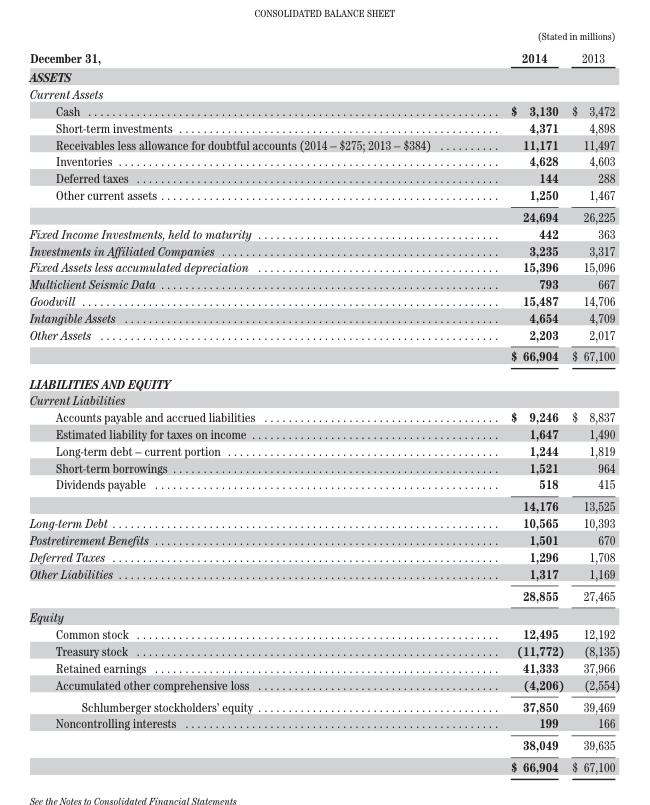table: (29, 29, 619, 774)
table column: (29, 29, 470, 774), (470, 29, 567, 774), (567, 29, 619, 774)
table column header: (29, 29, 619, 67)
table projected row header: (29, 369, 619, 391), (29, 606, 619, 625), (29, 67, 619, 85), (29, 391, 619, 408), (29, 85, 619, 101)
table row: (29, 344, 619, 369), (29, 583, 619, 606), (29, 45, 619, 67), (29, 369, 619, 391), (29, 733, 619, 755), (29, 185, 619, 205), (29, 494, 619, 514), (29, 675, 619, 695), (29, 205, 619, 224), (29, 325, 619, 344), (29, 475, 619, 494), (29, 564, 619, 583), (29, 606, 619, 625), (29, 695, 619, 714), (29, 714, 619, 733), (29, 755, 619, 774), (29, 67, 619, 85), (29, 101, 619, 118), (29, 118, 619, 135), (29, 135, 619, 152), (29, 152, 619, 169), (29, 224, 619, 241), (29, 241, 619, 258), (29, 258, 619, 275), (29, 291, 619, 308), (29, 308, 619, 325), (29, 391, 619, 408), (29, 408, 619, 425), (29, 441, 619, 458), (29, 458, 619, 475), (29, 530, 619, 547), (29, 547, 619, 564), (29, 625, 619, 642), (29, 658, 619, 675), (29, 29, 619, 45), (29, 85, 619, 101), (29, 169, 619, 185), (29, 275, 619, 291), (29, 425, 619, 441), (29, 514, 619, 530), (29, 642, 619, 658)
table spanning cell: (29, 29, 470, 67), (470, 29, 619, 45)
